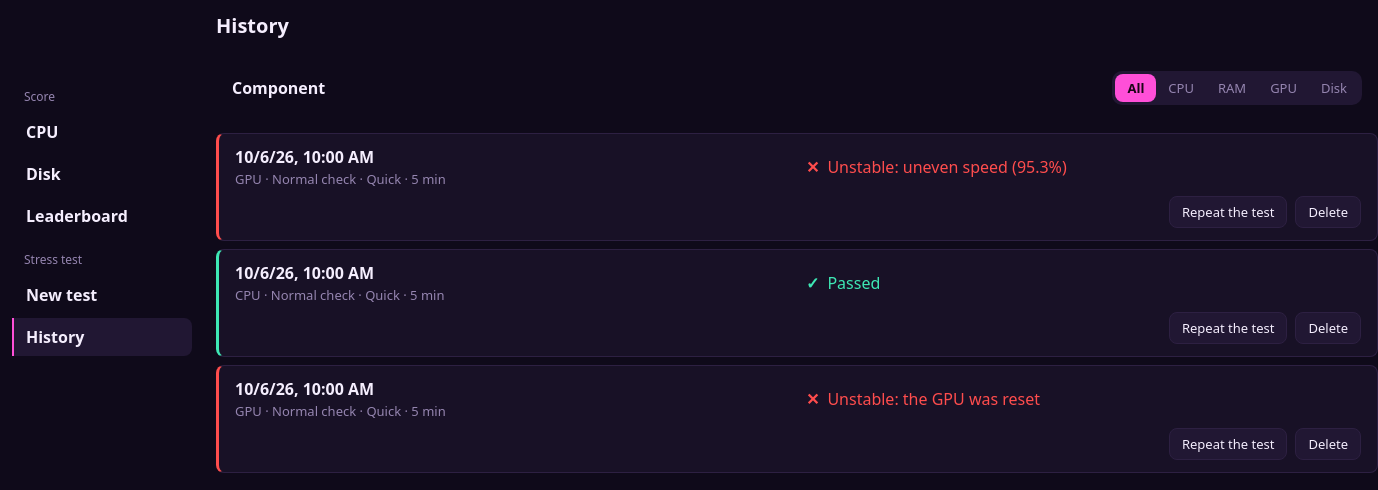
Test case: history filters by GPU
expect the number of list items is 3: met, box [216,133,1377,241]; [216,249,1377,357]; [216,365,1377,473]
Click the radio button labelled "GPU": {"x": 1284, "y": 88} [1270,79,1297,97]
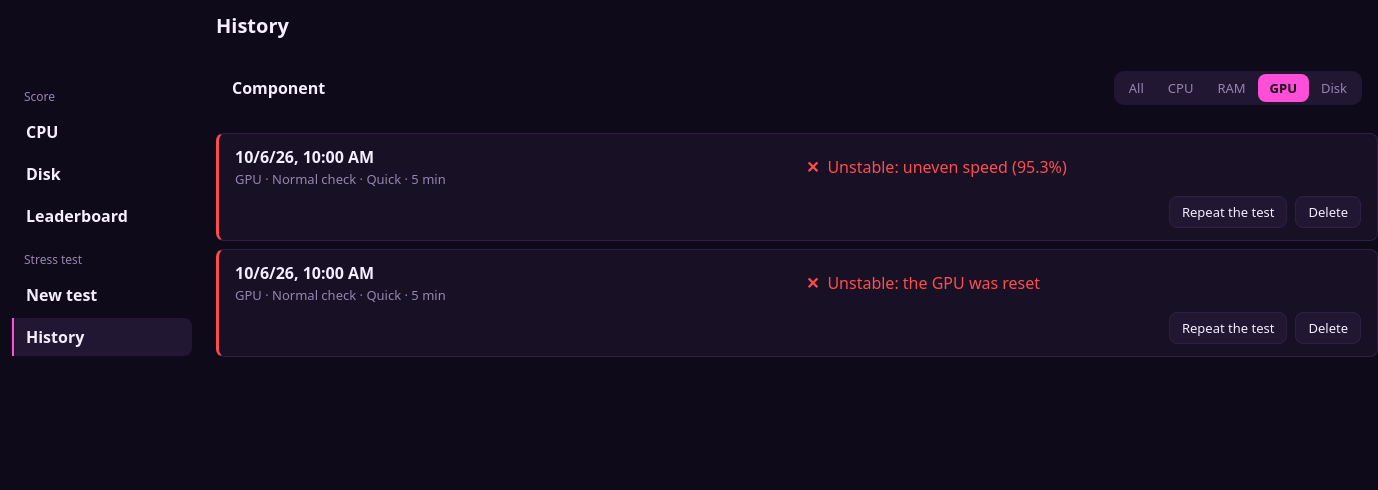
expect the list item that starts with "10/6/26, 10:00 AM" shows "Unstable: the GPU was reset": met, box [827,272,1040,294]
expect the number of list items is 2: met, box [216,133,1377,241]; [216,249,1377,357]
